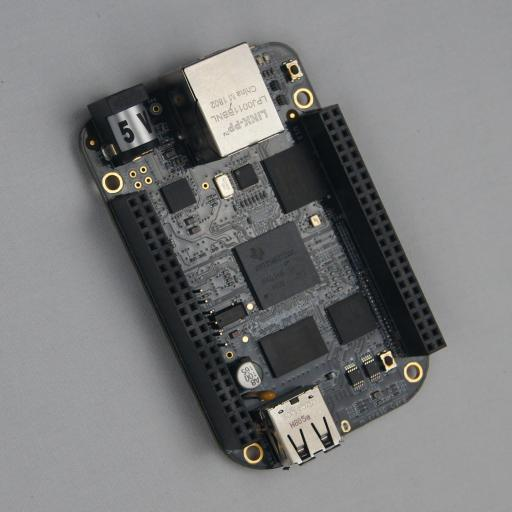Beaglebone Black: (70, 42, 446, 470)
